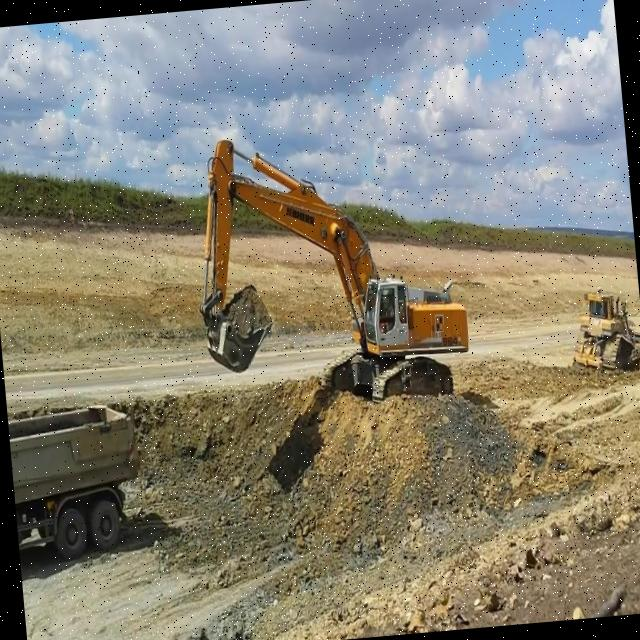Dump Truck: (6, 396, 150, 584)
Excavator: (184, 115, 474, 418)
Loader: (565, 282, 640, 372)
